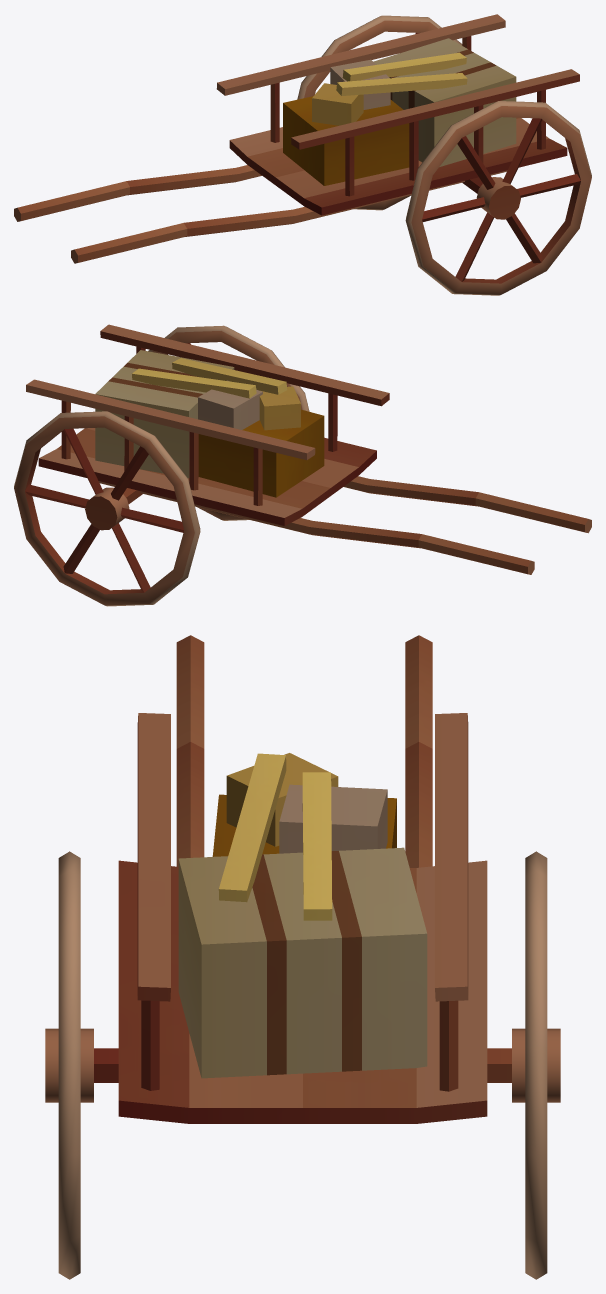
The model's file is SM_Charriot_01.fbx.
3 views of the same model, one above another, from view 1: azimuth 30°, elevation 25°; view 2: azimuth 150°, elevation 25°; view 3: azimuth 270°, elevation 25° (orthographic). The views are drawn at different scales.
Parts seen in each view (by area): view 1: SM_Charriot_01; view 2: SM_Charriot_01; view 3: SM_Charriot_01.
Boxes of the visible parts, x1,y1,x2,y2 form: SM_Charriot_01: (14, 14, 591, 295); SM_Charriot_01: (14, 324, 591, 606); SM_Charriot_01: (45, 635, 560, 1279).
Bounding box in the file's own units: 4.23 × 1.64 × 1.92.
